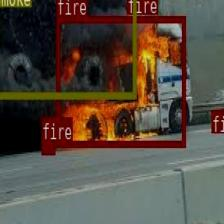fire: (56, 15, 185, 146), (210, 108, 224, 125), (41, 140, 54, 153), (126, 0, 138, 7)
smoke: (0, 0, 135, 98)
